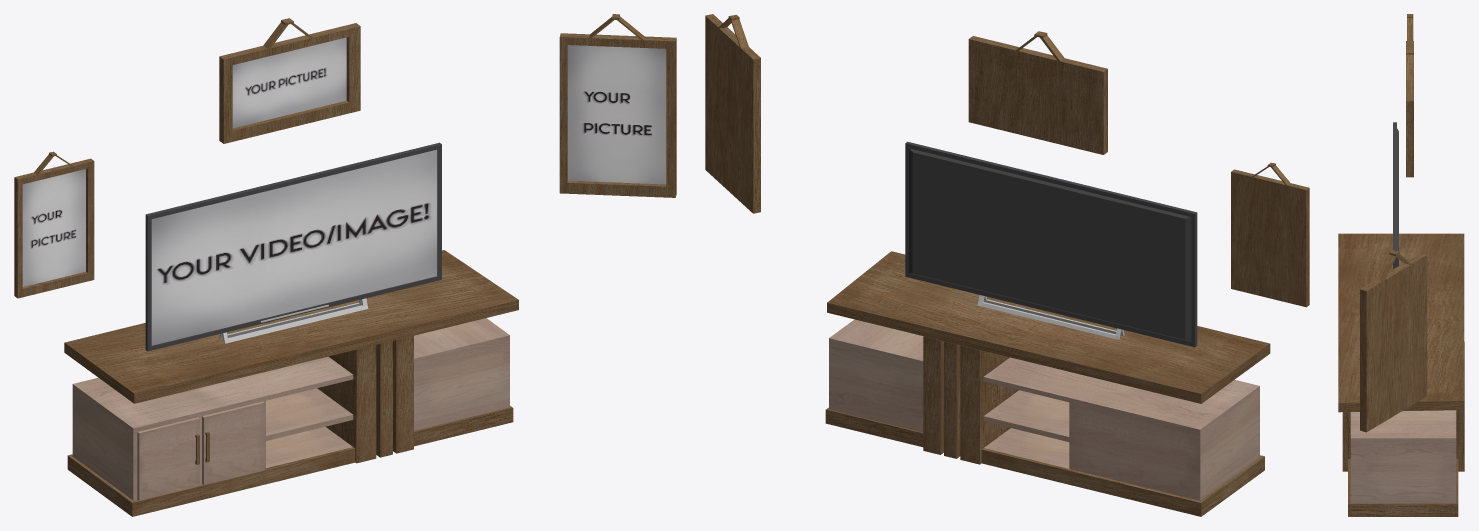
The model's file is TV_Stand.fbx.
The picture shows the model from 3 angles, left to right: view 1: azimuth 30°, elevation 25°; view 2: azimuth 150°, elevation 25°; view 3: azimuth 270°, elevation 25°; orthographic projection. The views are drawn at different scales.
Visible parts, largest first — view 1: TV_Stand, TV, Picture_Frame_3, Picture_Frame_2, Picture_Frame_1, TV_Stand_Door_1, TV_Stand_Door_2; view 2: TV_Stand, TV, Picture_Frame_2, Picture_Frame_1, Picture_Frame_3; view 3: TV_Stand, Picture_Frame_3, Picture_Frame_2, TV, Picture_Frame_1.
Part boxes in pixels (box(x1,y1,x2,y2)): TV_Stand: box(64, 250, 518, 516); TV: box(145, 142, 441, 351); Picture_Frame_3: box(559, 14, 676, 197); Picture_Frame_2: box(219, 18, 360, 143); Picture_Frame_1: box(14, 151, 94, 298); TV_Stand_Door_1: box(202, 401, 264, 484); TV_Stand_Door_2: box(137, 417, 199, 500); TV_Stand: box(825, 251, 1270, 516); TV: box(905, 141, 1197, 347); Picture_Frame_2: box(968, 31, 1107, 154); Picture_Frame_1: box(1231, 162, 1309, 307); Picture_Frame_3: box(705, 14, 760, 213); TV_Stand: box(1338, 233, 1464, 516); Picture_Frame_3: box(1360, 250, 1427, 432); Picture_Frame_2: box(1406, 41, 1413, 177); TV: box(1393, 122, 1398, 269); Picture_Frame_1: box(1407, 14, 1413, 40).
Bounding box in the file's own units: 1662 × 1056 × 317.
